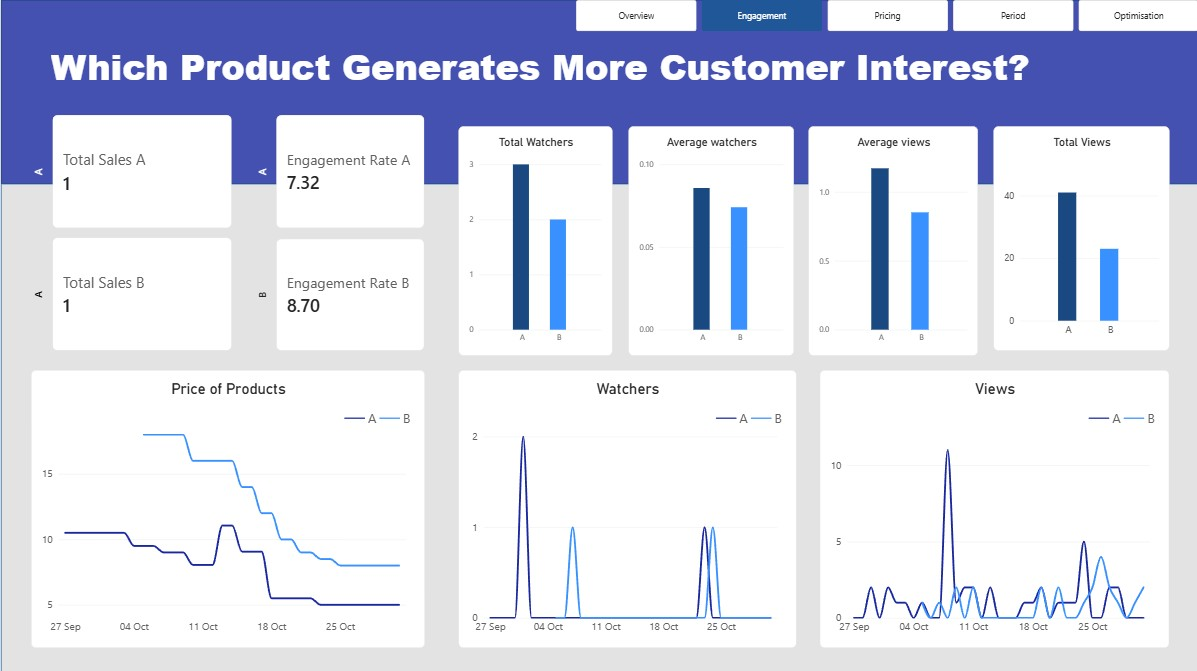

Layout of this report page (visuals, bound fields, positions):
{"tool":"powerbi","page":{"name":"Engagement","canvas":[1920,1080],"ordinal":1},"visuals":[{"type":"shape","box":[0,294.3,1920,786.8],"z":0},{"type":"shape","box":[0,0,1920,294.3],"z":1000},{"type":"columnChart","title":"Total Views","fields":{"Category":["public daily_performance.product"],"Y":["Sum(public daily_performance.views)"]},"box":[1588.2,202.4,281.7,359],"z":2000},{"type":"columnChart","title":"Total Watchers","fields":{"Category":["public daily_performance.product"],"Y":["Sum(public daily_performance.watchers)"]},"box":[732.5,202.4,246.3,367.3],"z":3000},{"type":"columnChart","title":"Average views","fields":{"Category":["public daily_performance.product"],"Y":["Avg(public daily_performance.views)"]},"box":[1291.8,202.4,271.3,367.3],"z":4000},{"type":"columnChart","title":"Average watchers","fields":{"Category":["public daily_performance.product"],"Y":["Avg(public daily_performance.watchers)"]},"box":[1003.8,202.4,265,367.3],"z":5000},{"type":"cardVisual","fields":{"Data":["Sum(Query1.engagement_rate)"],"Rows":["Query1.product"]},"box":[407,183.7,271.3,181.6],"z":6000},{"type":"lineChart","title":"Price of Products","fields":{"Category":["public daily_performance.date.Variation.Date Hierarchy.Year","public daily_performance.date.Variation.Date Hierarchy.Quarter","public daily_performance.date.Variation.Date Hierarchy.Month","public daily_performance.date.Variation.Date Hierarchy.Day"],"Series":["public daily_performance.product"],"Y":["Avg(public daily_performance.price)"]},"box":[48,592.7,630.3,444.5],"z":7000},{"type":"cardVisual","fields":{"Data":["Sum(public daily_performance.sales)"],"Rows":["public daily_performance.product"]},"box":[48,183.7,321.4,181.6],"z":8000},{"type":"cardVisual","fields":{"Data":["Sum(Query1.engagement_rate)"],"Rows":["Query1.product"]},"box":[407,381.9,271.3,179.5],"z":9000},{"type":"textbox","box":[79.3,66.8,1598.6,116.9],"z":10000},{"type":"lineChart","title":"Views","fields":{"Category":["daily_performance.date"],"Series":["public daily_performance.product"],"Y":["Sum(public daily_performance.views)"]},"box":[1310.6,592.7,559.3,444.5],"z":11000},{"type":"lineChart","title":"Watchers","fields":{"Category":["daily_performance.date"],"Series":["public daily_performance.product"],"Y":["Sum(public daily_performance.watchers)"]},"box":[732.5,592.7,540.5,444.5],"z":12000},{"type":"cardVisual","fields":{"Data":["Sum(public daily_performance.sales)"],"Rows":["public daily_performance.product"]},"box":[48,379.8,321.4,181.6],"z":13000},{"type":"pageNavigator","box":[920.3,0,1000,50],"z":14000}]}

Visuals, with their boxes in screenshot pixels (x1, y1, x2, y2), scaled from the page's 1920x1080 canvas onto the 1197x671 screenshot:
shape: <region>0, 183, 1196, 670</region>
shape: <region>0, 0, 1196, 183</region>
"Total Views" columnChart: <region>990, 126, 1166, 349</region>
"Total Watchers" columnChart: <region>457, 126, 610, 354</region>
"Average views" columnChart: <region>805, 126, 974, 354</region>
"Average watchers" columnChart: <region>626, 126, 791, 354</region>
cardVisual - Sum(Query1.engagement_rate) x Query1.product: <region>254, 114, 423, 227</region>
"Price of Products" lineChart: <region>30, 368, 423, 644</region>
cardVisual - Sum(public daily_performance.sales) x public daily_performance.product: <region>30, 114, 230, 227</region>
cardVisual - Sum(Query1.engagement_rate) x Query1.product: <region>254, 237, 423, 349</region>
textbox: <region>49, 42, 1046, 114</region>
"Views" lineChart: <region>817, 368, 1166, 644</region>
"Watchers" lineChart: <region>457, 368, 794, 644</region>
cardVisual - Sum(public daily_performance.sales) x public daily_performance.product: <region>30, 236, 230, 349</region>
pageNavigator: <region>574, 0, 1196, 31</region>
